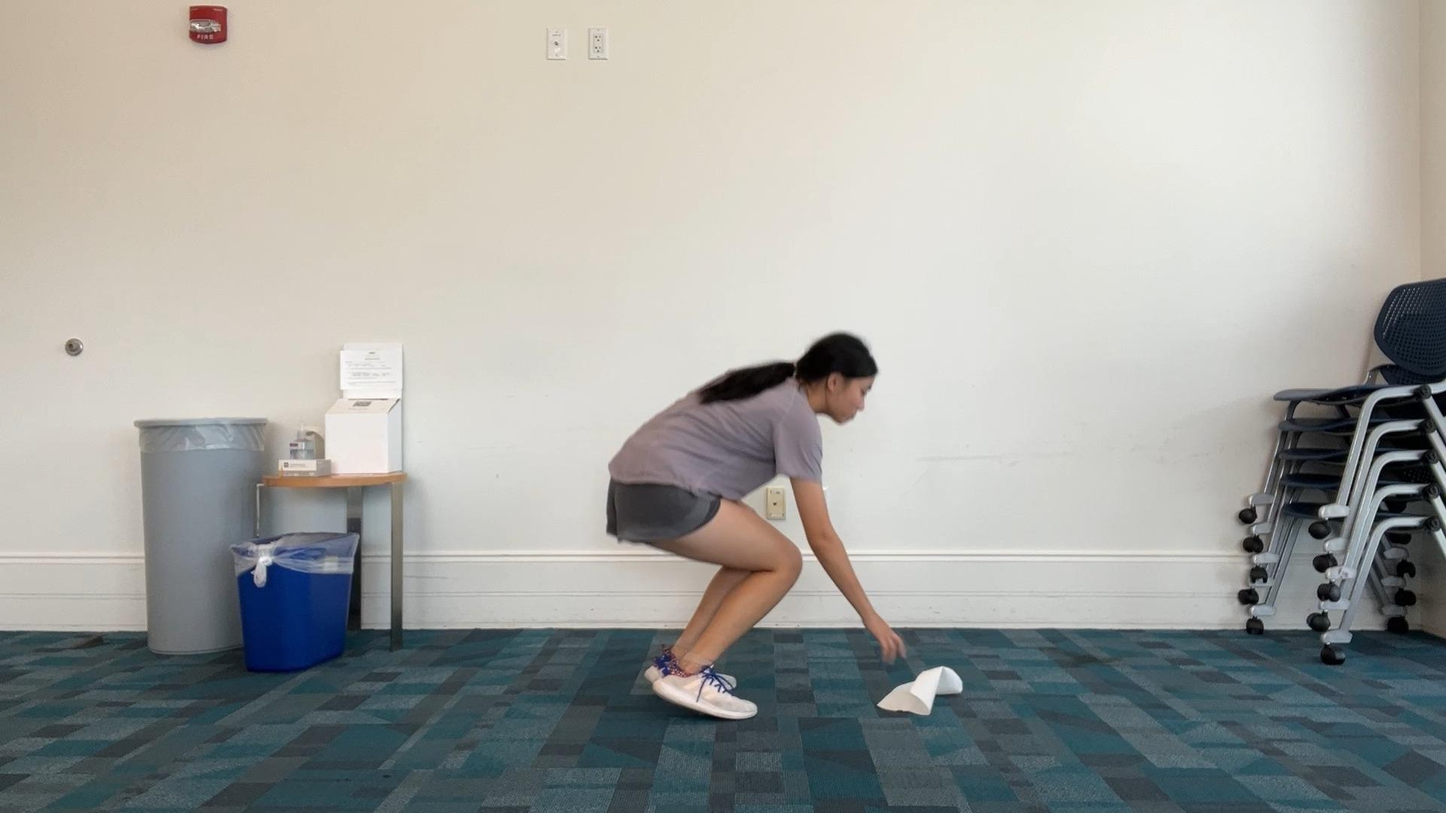Trash: (866, 659, 983, 731)
